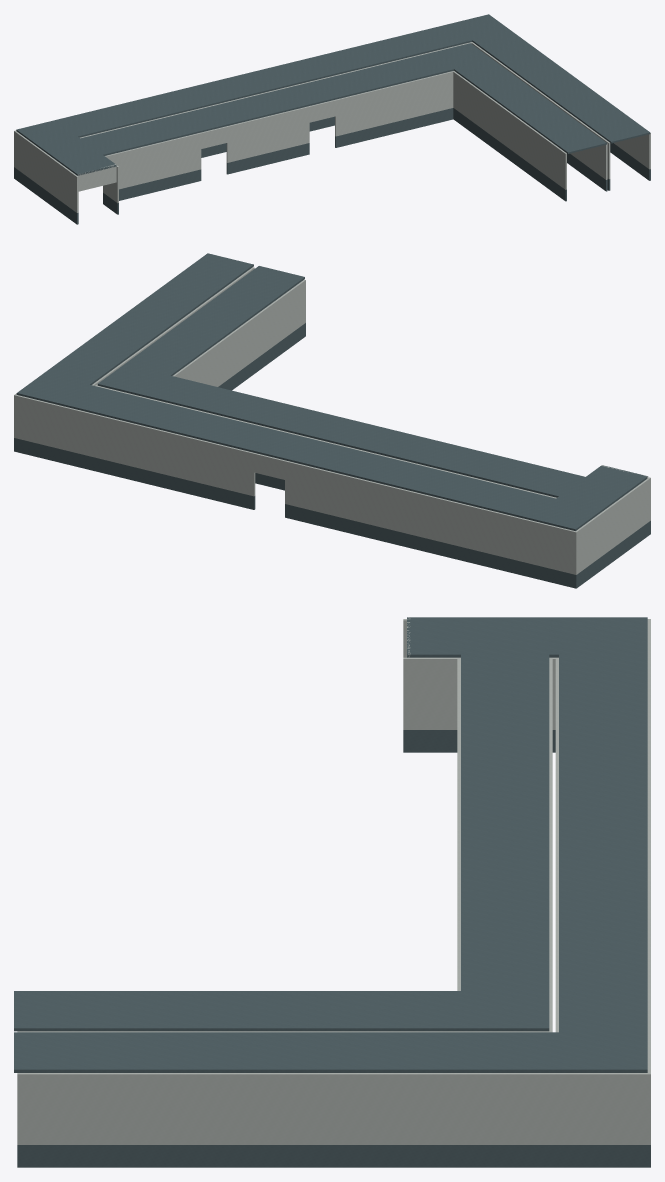
The model's file is AST-MED-G3-003_equipment_receiving.glb.
3 views of the same model, one above another, from view 1: azimuth 30°, elevation 25°; view 2: azimuth 150°, elevation 25°; view 3: azimuth 270°, elevation 25° (orthographic). The views are drawn at different scales.
Visible parts, largest first — view 1: overhead_staff_bluegrey_paint_4_-42, overhead_staff_bluegrey_paint_2_-42, overhead_staff_bluegrey_paint_3_-42, screen_wall_staff_white_paint_4_-42, screen_wall_staff_white_paint_3_-42, screen_wall_staff_white_paint_2_-42, screen_wall_staff_white_paint_4_-41, overhead_staff_bluegrey_paint_4_-41, overhead_staff_bluegrey_paint_1_-42, screen_wall_staff_white_paint_1_-42, overhead_staff_bluegrey_paint_5_-41, overhead_staff_bluegrey_paint_5_-42 (+14 smaller); view 2: overhead_staff_bluegrey_paint_4_-42, screen_wall_staff_white_paint_4_-43, screen_wall_staff_white_paint_2_-43, overhead_staff_bluegrey_paint_2_-42, overhead_staff_bluegrey_paint_3_-42, screen_wall_staff_white_paint_3_-43, overhead_staff_bluegrey_paint_4_-41, screen_wall_staff_white_paint_4_-41, overhead_staff_bluegrey_paint_1_-42, screen_wall_staff_white_paint_1_-43, overhead_staff_bluegrey_paint_5_-42, overhead_staff_bluegrey_paint_5_-41 (+15 smaller); view 3: overhead_staff_bluegrey_paint_4_-42, screen_wall_staff_white_paint_5_-42, screen_wall_staff_white_paint_5_-41, overhead_staff_bluegrey_paint_2_-42, overhead_staff_bluegrey_paint_3_-42, overhead_staff_bluegrey_paint_4_-41, overhead_staff_bluegrey_paint_5_-42, overhead_staff_bluegrey_paint_5_-41, overhead_staff_bluegrey_paint_1_-42, screen_wall_staff_bluegrey_paint_5_-42, screen_wall_staff_bluegrey_paint_5_-41, overhead_staff_bluegrey_paint_2_-43 (+11 smaller).
Part boxes in pixels (x1=…): overhead_staff_bluegrey_paint_4_-42: x1=340, y1=30, x2=544, y2=98; overhead_staff_bluegrey_paint_2_-42: x1=80, y1=93, x2=245, y2=152; overhead_staff_bluegrey_paint_3_-42: x1=210, y1=61, x2=375, y2=121; screen_wall_staff_white_paint_4_-42: x1=351, y1=42, x2=535, y2=134; screen_wall_staff_white_paint_3_-42: x1=221, y1=71, x2=376, y2=157; screen_wall_staff_white_paint_2_-42: x1=91, y1=103, x2=246, y2=189; screen_wall_staff_white_paint_4_-41: x1=491, y1=88, x2=610, y2=189; overhead_staff_bluegrey_paint_4_-41: x1=493, y1=85, x2=619, y2=153; overhead_staff_bluegrey_paint_1_-42: x1=27, y1=125, x2=116, y2=175; screen_wall_staff_white_paint_1_-42: x1=26, y1=135, x2=118, y2=212; overhead_staff_bluegrey_paint_5_-41: x1=545, y1=77, x2=650, y2=141; overhead_staff_bluegrey_paint_5_-42: x1=470, y1=22, x2=574, y2=84; overhead_staff_bluegrey_paint_4_-42: x1=66, y1=327, x2=262, y2=429; screen_wall_staff_white_paint_4_-43: x1=51, y1=403, x2=206, y2=484; screen_wall_staff_white_paint_2_-43: x1=359, y1=478, x2=513, y2=559; overhead_staff_bluegrey_paint_2_-42: x1=374, y1=435, x2=569, y2=504; overhead_staff_bluegrey_paint_3_-42: x1=220, y1=398, x2=415, y2=466; screen_wall_staff_white_paint_3_-43: x1=205, y1=441, x2=359, y2=521; overhead_staff_bluegrey_paint_4_-41: x1=155, y1=262, x2=304, y2=343; screen_wall_staff_white_paint_4_-41: x1=165, y1=267, x2=305, y2=386; overhead_staff_bluegrey_paint_1_-42: x1=528, y1=465, x2=648, y2=520; screen_wall_staff_white_paint_1_-43: x1=513, y1=516, x2=590, y2=574; overhead_staff_bluegrey_paint_5_-42: x1=30, y1=318, x2=154, y2=391; overhead_staff_bluegrey_paint_5_-41: x1=119, y1=253, x2=242, y2=326; overhead_staff_bluegrey_paint_4_-42: x1=308, y1=916, x2=603, y2=1040; screen_wall_staff_white_paint_5_-42: x1=308, y1=1073, x2=603, y2=1144; screen_wall_staff_white_paint_5_-41: x1=17, y1=1073, x2=308, y2=1144; overhead_staff_bluegrey_paint_2_-42: x1=461, y1=667, x2=603, y2=791; overhead_staff_bluegrey_paint_3_-42: x1=461, y1=791, x2=603, y2=915; overhead_staff_bluegrey_paint_4_-41: x1=14, y1=991, x2=308, y2=1040; overhead_staff_bluegrey_paint_5_-42: x1=308, y1=1040, x2=603, y2=1072; overhead_staff_bluegrey_paint_5_-41: x1=14, y1=1040, x2=308, y2=1072; overhead_staff_bluegrey_paint_1_-42: x1=407, y1=617, x2=603, y2=666; screen_wall_staff_bluegrey_paint_5_-42: x1=308, y1=1145, x2=603, y2=1167; screen_wall_staff_bluegrey_paint_5_-41: x1=17, y1=1145, x2=308, y2=1167; overhead_staff_bluegrey_paint_2_-43: x1=603, y1=667, x2=647, y2=791.
Size of the model in its own units: 43.88 by 4.34 by 25.94.
Materials: 4 (4 with a texture image).
